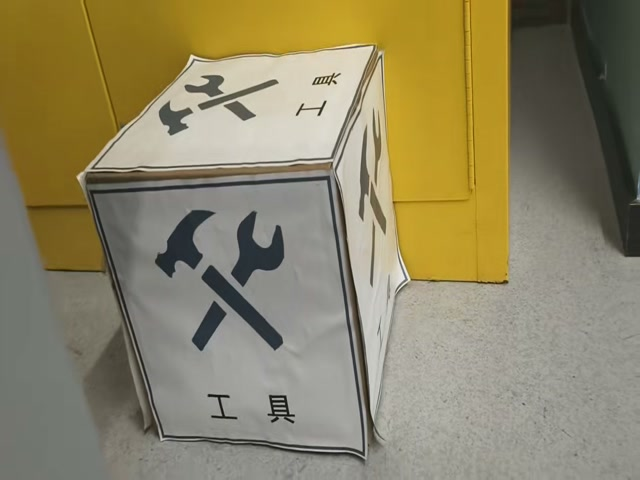Cube_tool: (88, 47, 386, 177)
